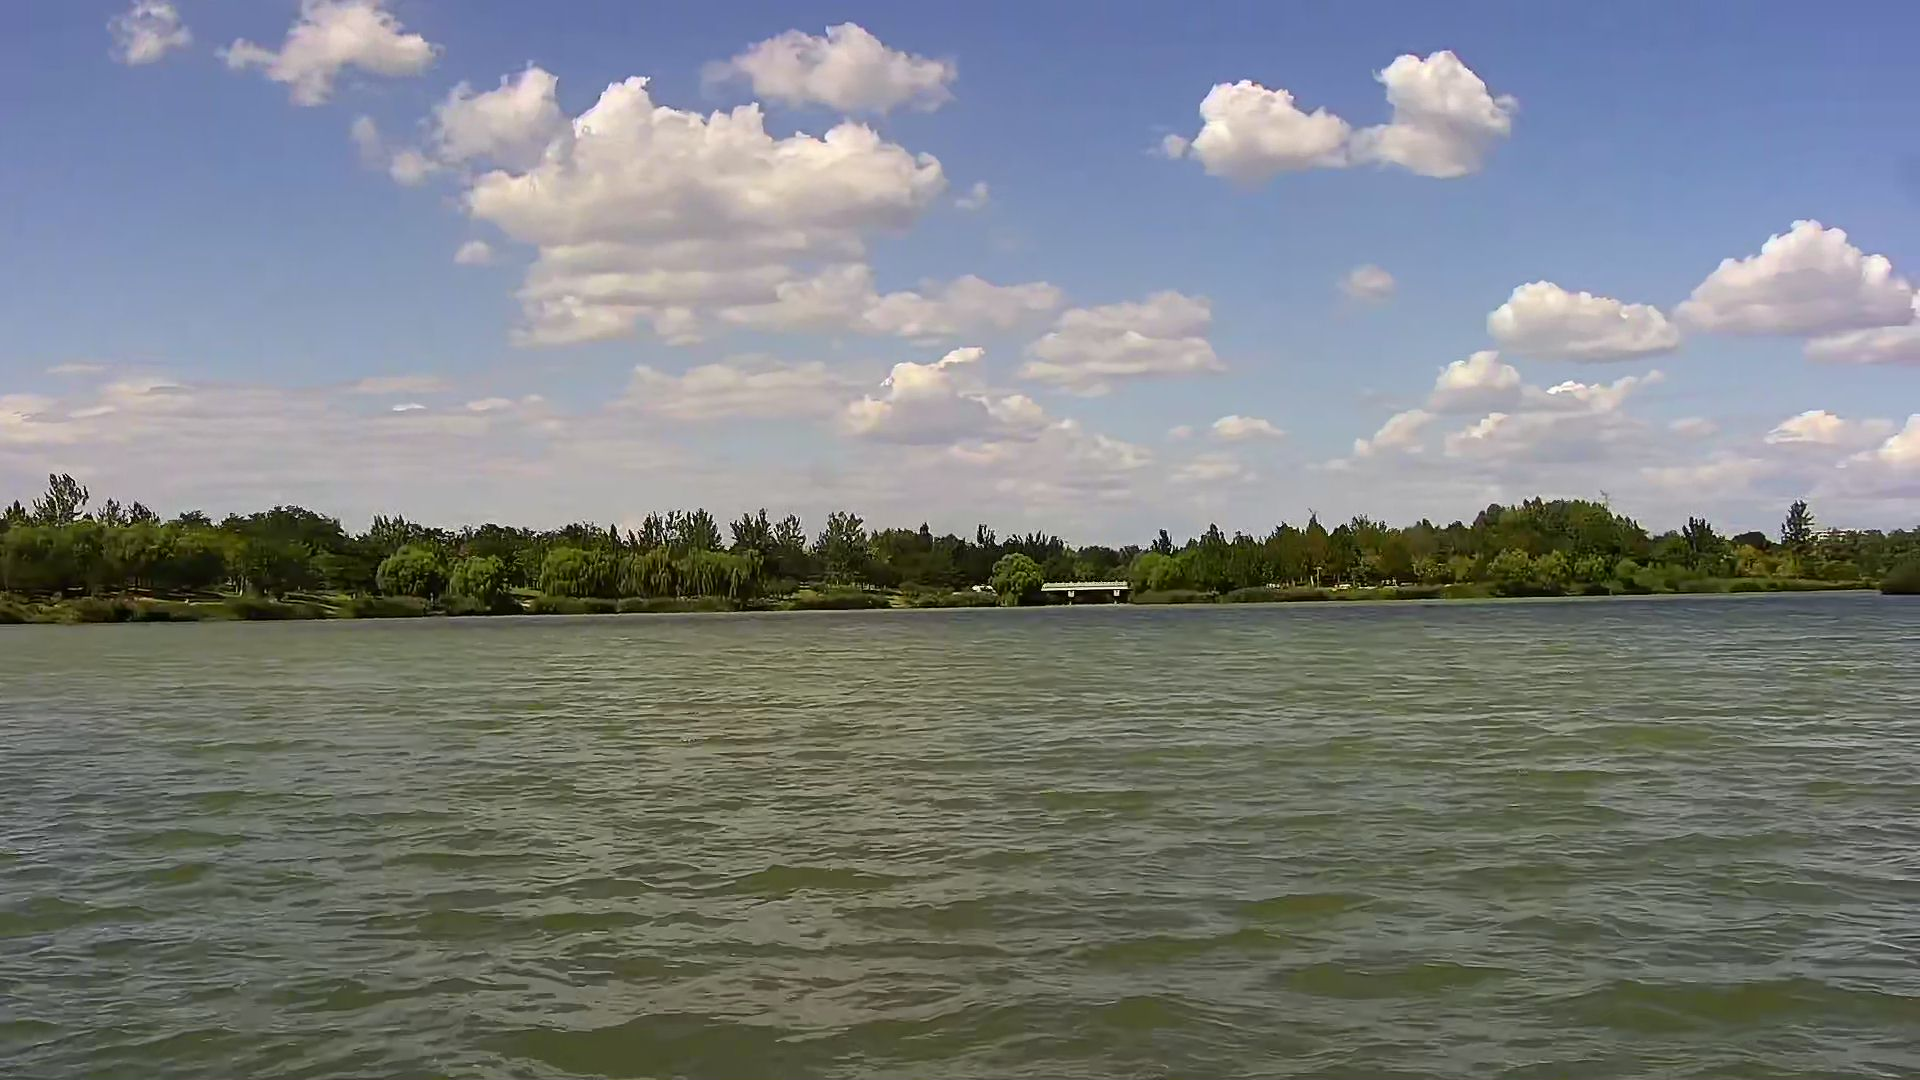bridge: (1040, 578, 1130, 612)
